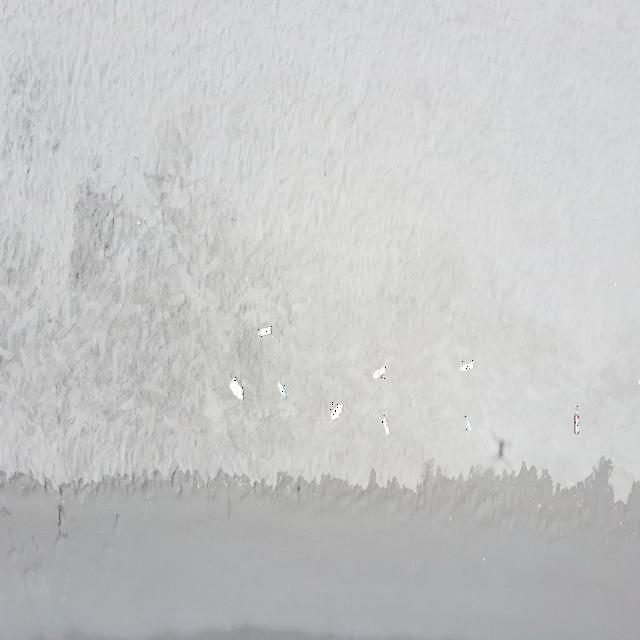Garbage: (228, 376, 243, 400), (329, 403, 342, 420), (572, 404, 579, 433), (276, 382, 287, 399), (372, 364, 384, 377), (382, 413, 388, 435), (260, 324, 271, 335), (460, 360, 472, 369), (464, 415, 470, 430)
